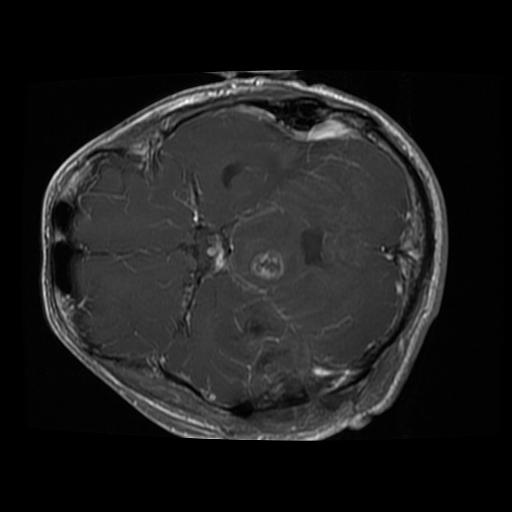glioma: (248, 247, 285, 280)
